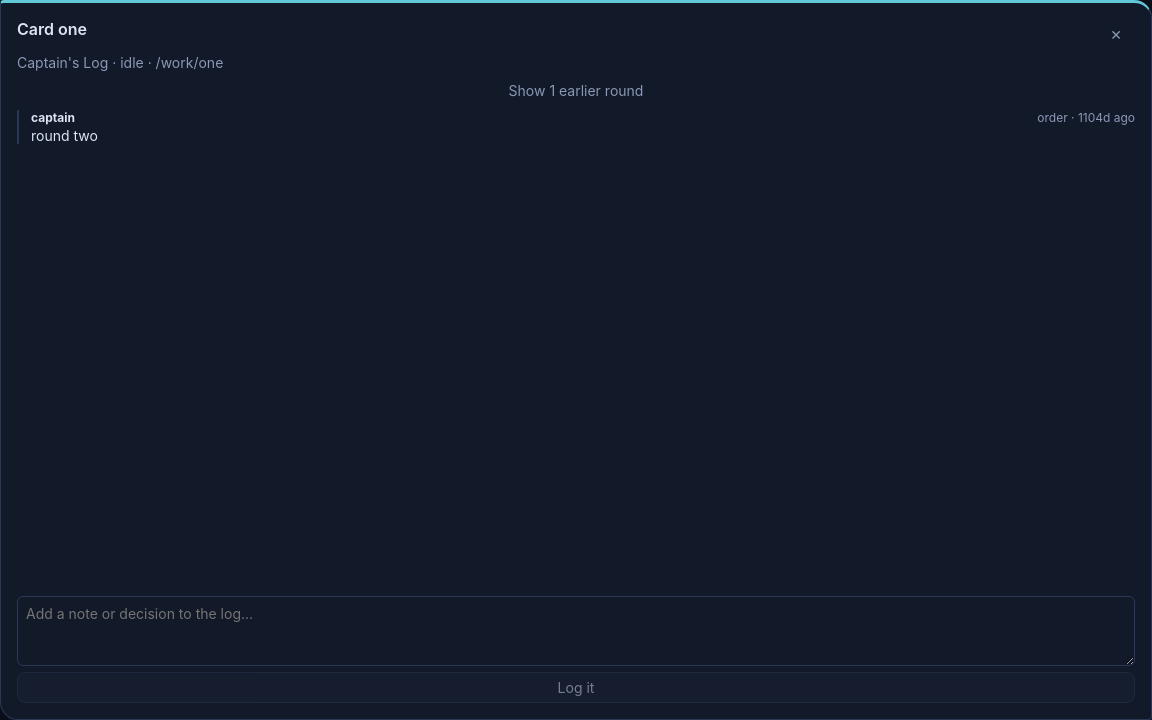
Scenario: CardConsole › collapses older rounds until asked to show them
Check: the text "round two" is shown, box [31,127,98,144]
Check: the text "round one" is not shown
Click the button "Show 1 earlier round". click: [576, 90]
box: [17,75,1135,106]
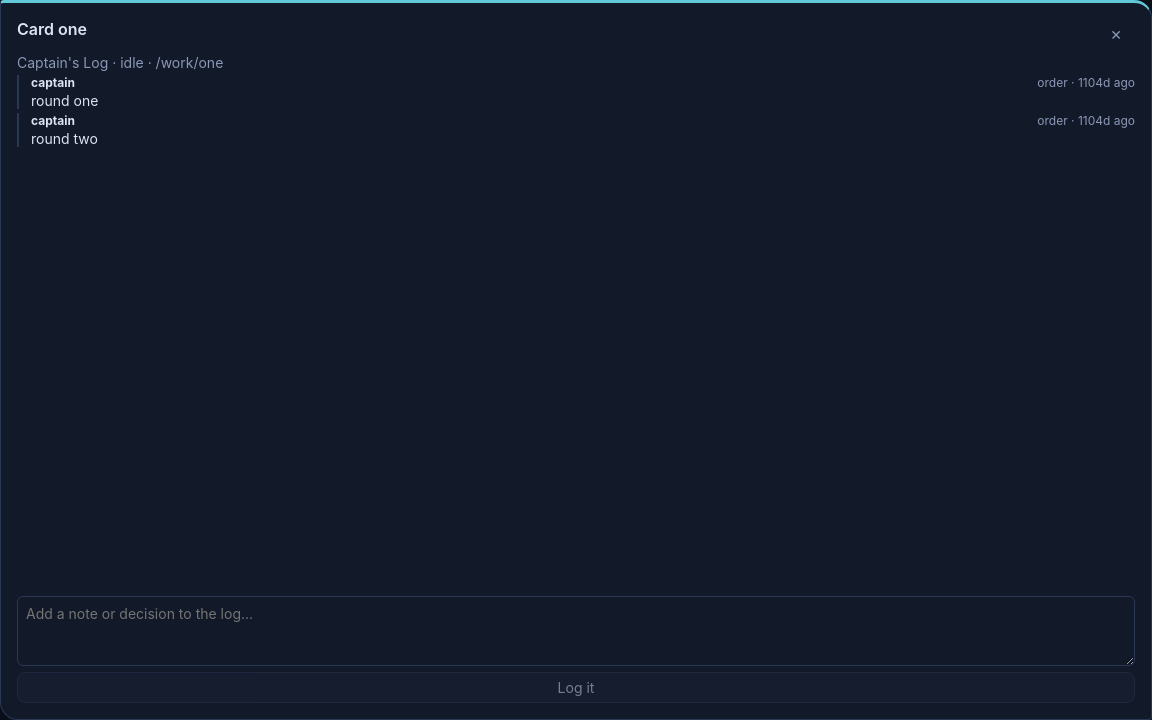
Check: the text "round one" is shown, box [31,92,98,109]
